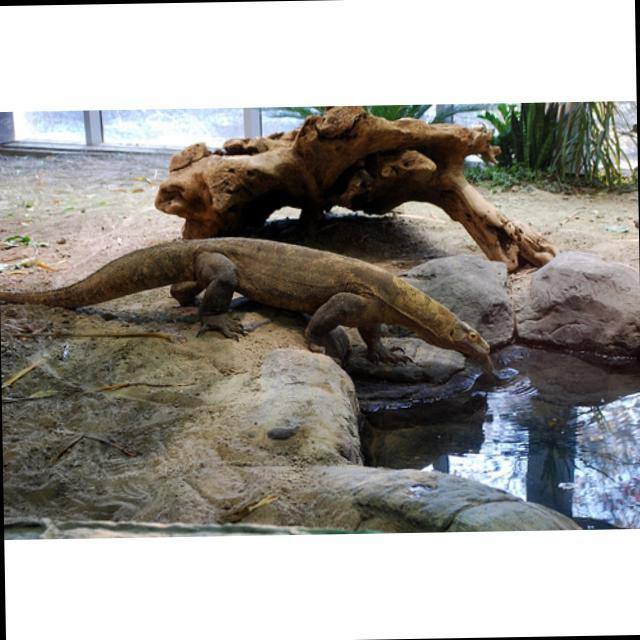KomodoDragon: (3, 231, 493, 369)
